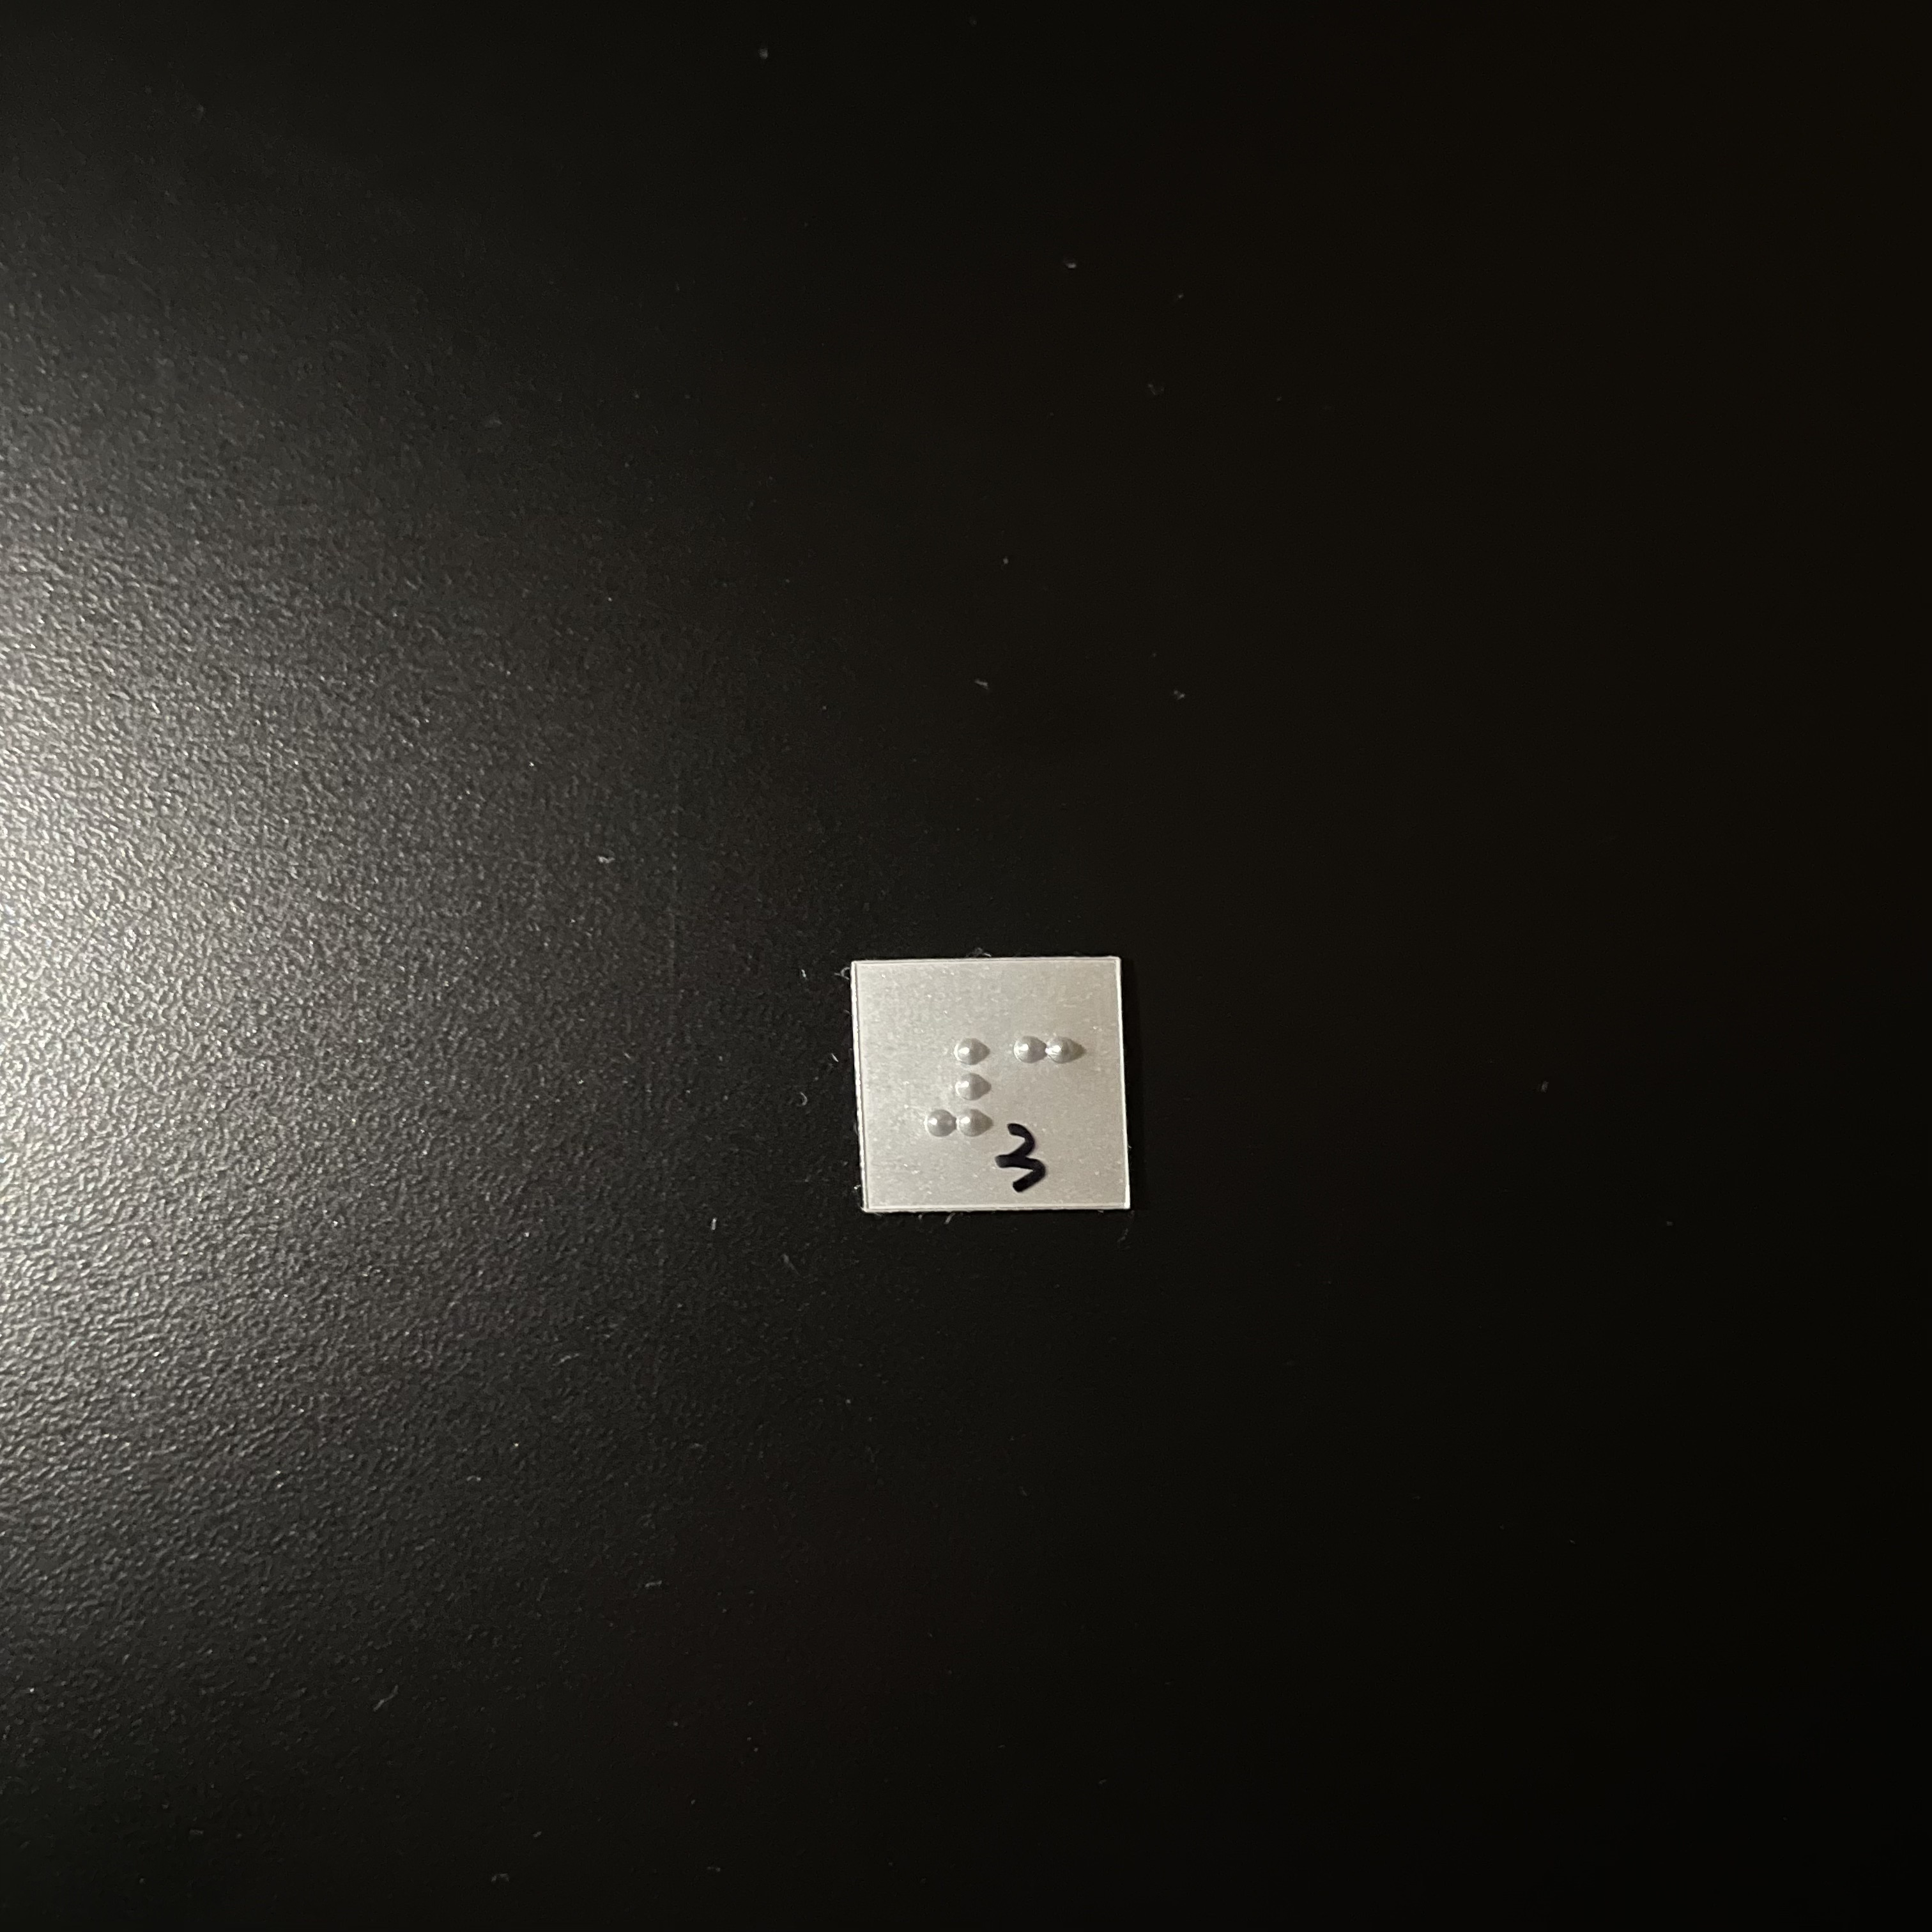#: (921, 1035, 999, 1141)
c: (1009, 1031, 1080, 1138)
